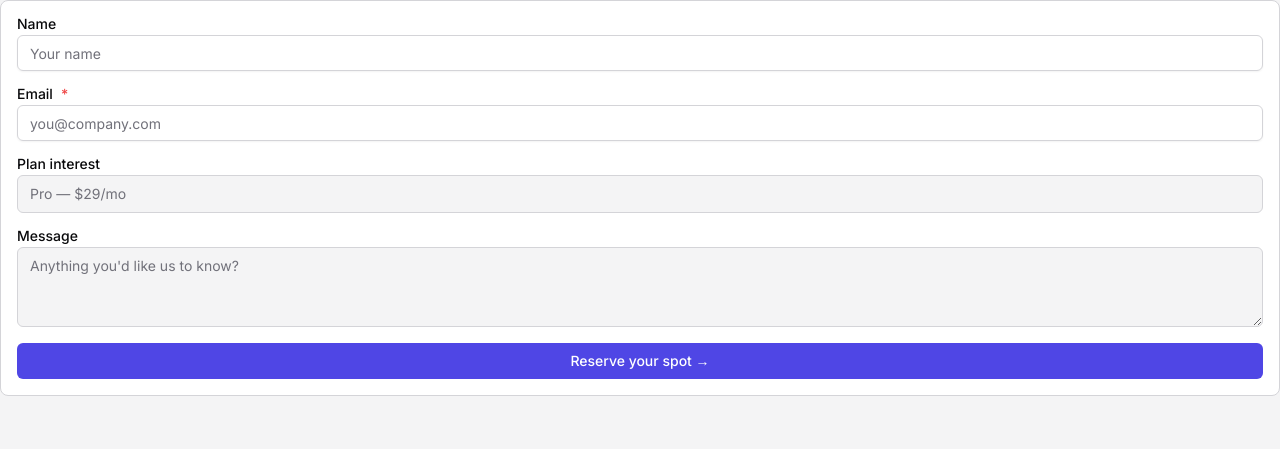
Test: WaitlistForm › shows inline error message returned by the API on failure
Type "existing@example.com" into the field labelled "Email *" at {"x": 640, "y": 123}, box 17,105 -> 1263,141
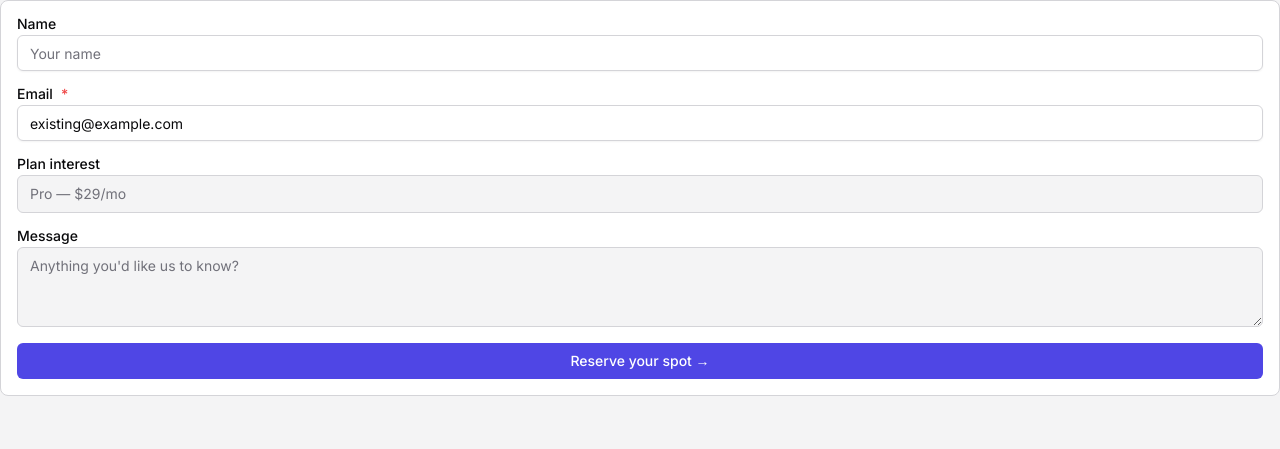
Submit the form "Reserve your spot"
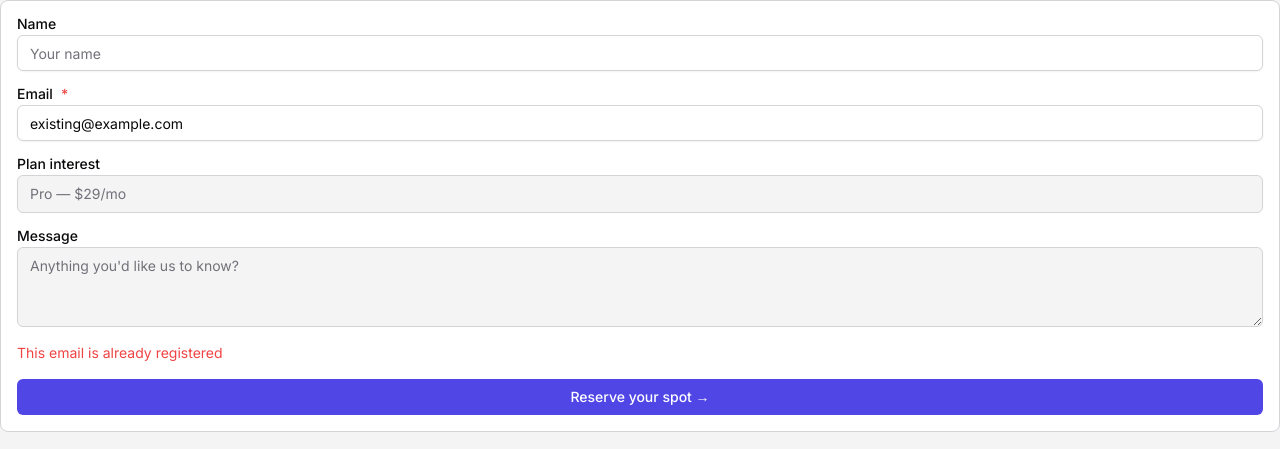
Now the message reads "This email is already registered", box 17,344 -> 223,361
